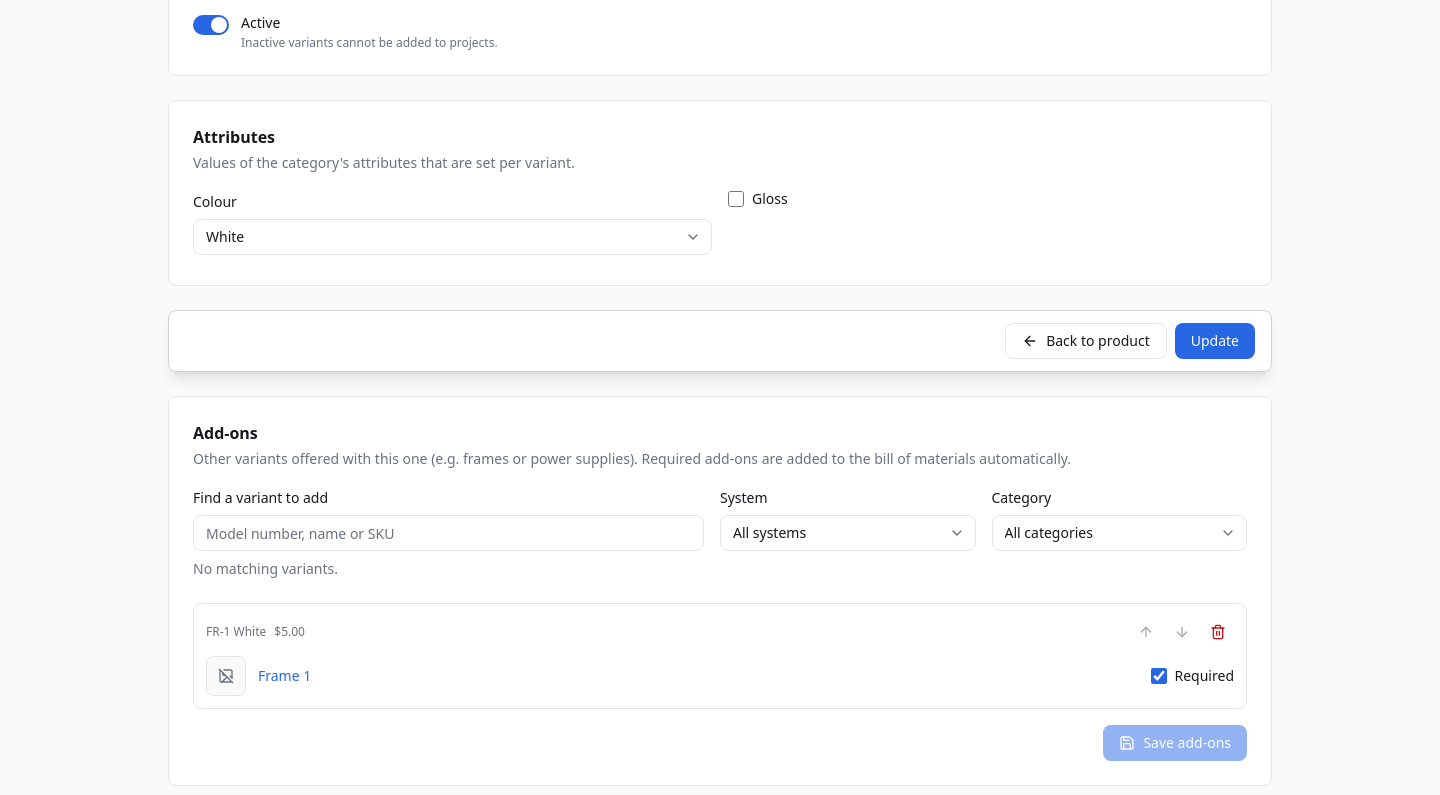
Test case: VariantEditorPage › keeps unsaved add-ons after an update of the variant and still asks before leaving
This screenshot has width=1440, height=795.
(page scrolled)
Click the button named "Remove FR-1 White" at (1218, 632), box [1202, 616, 1234, 648]
(page scrolled)
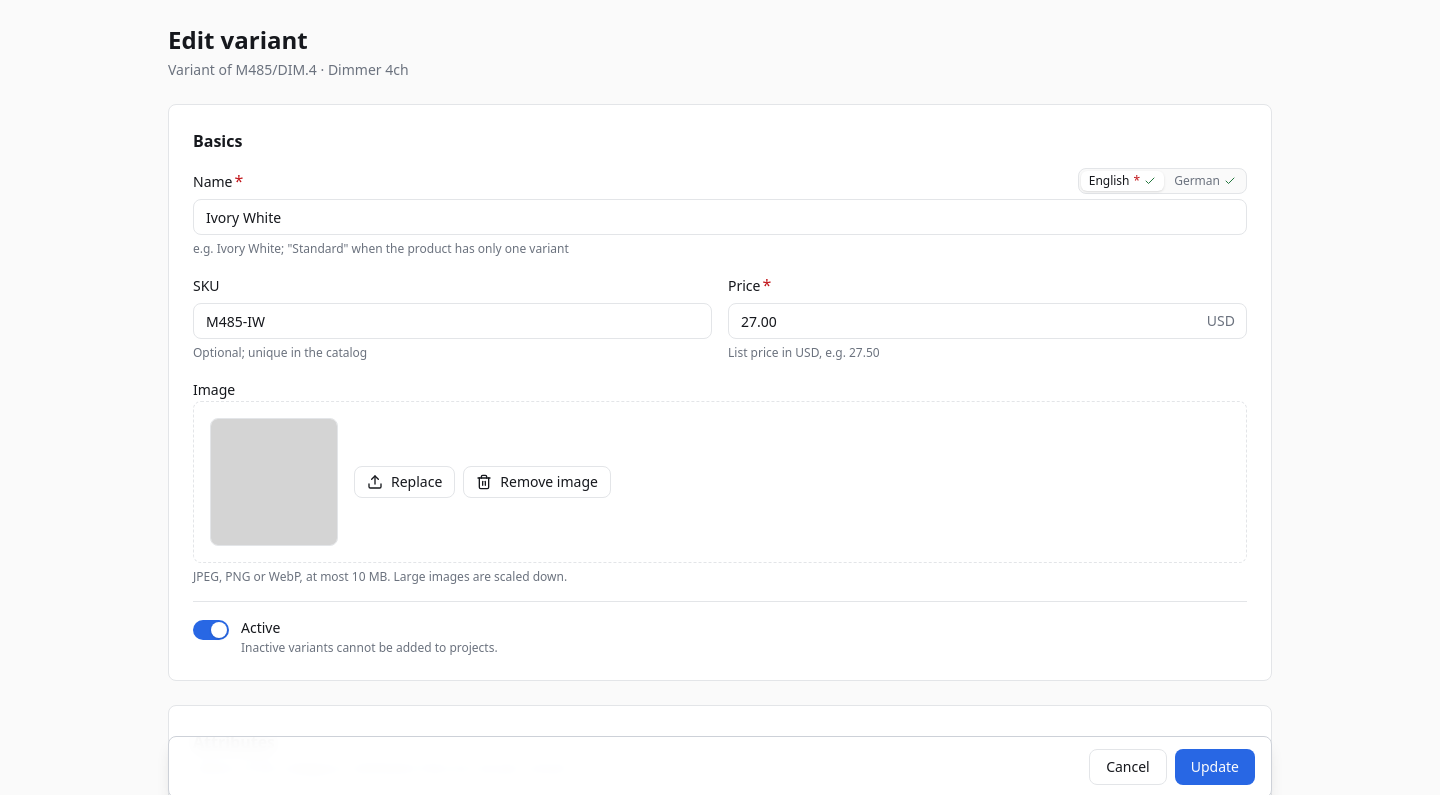
Replace the text in the field labelled "SKU" with "NEW" at (452, 321), box [193, 303, 712, 339]
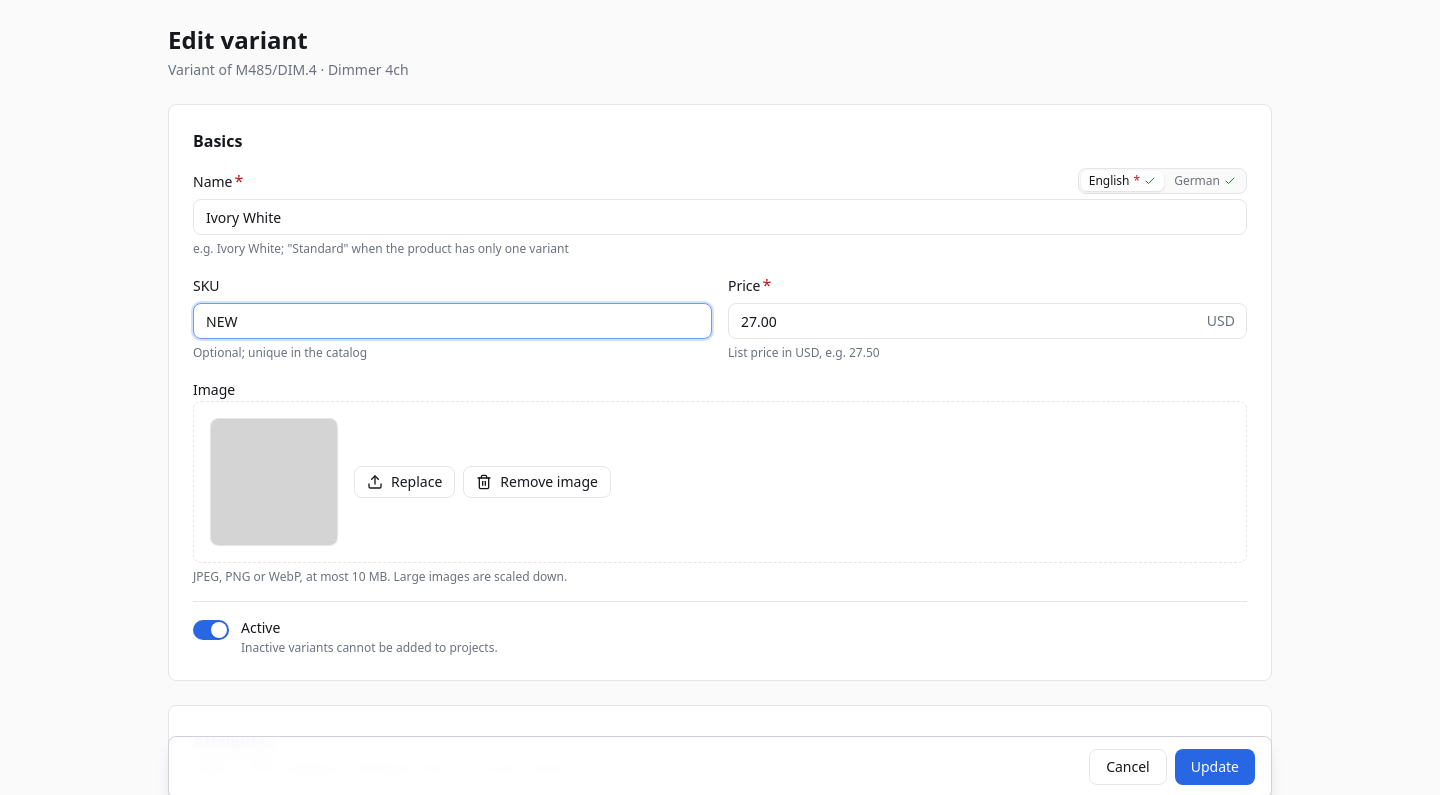
Click the button "Update" at (1215, 767), box [1175, 749, 1255, 785]
(page scrolled)
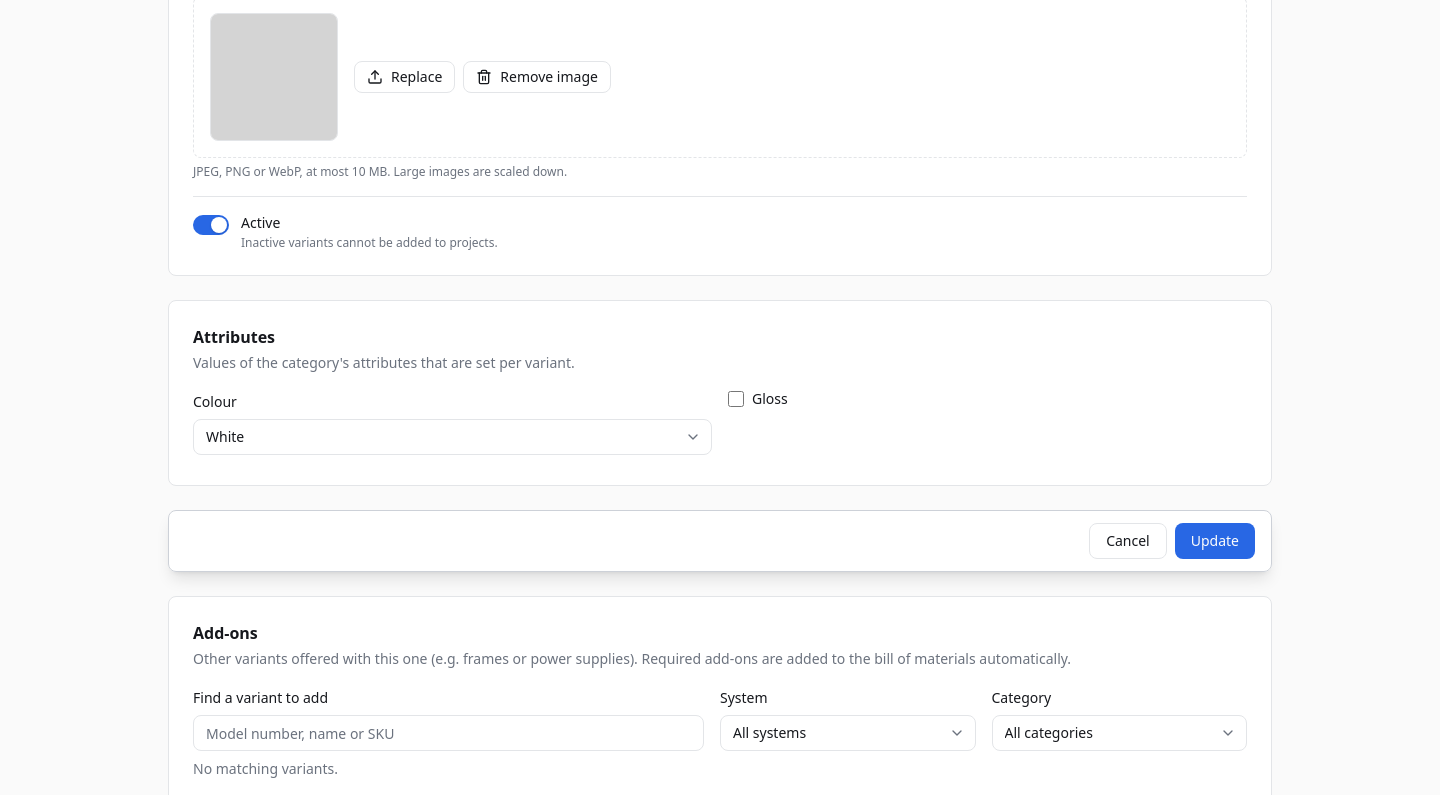
Expected: the text "FR-1 White" is not shown
Click the link "Cancel" at (1128, 541), box [1089, 523, 1167, 559]
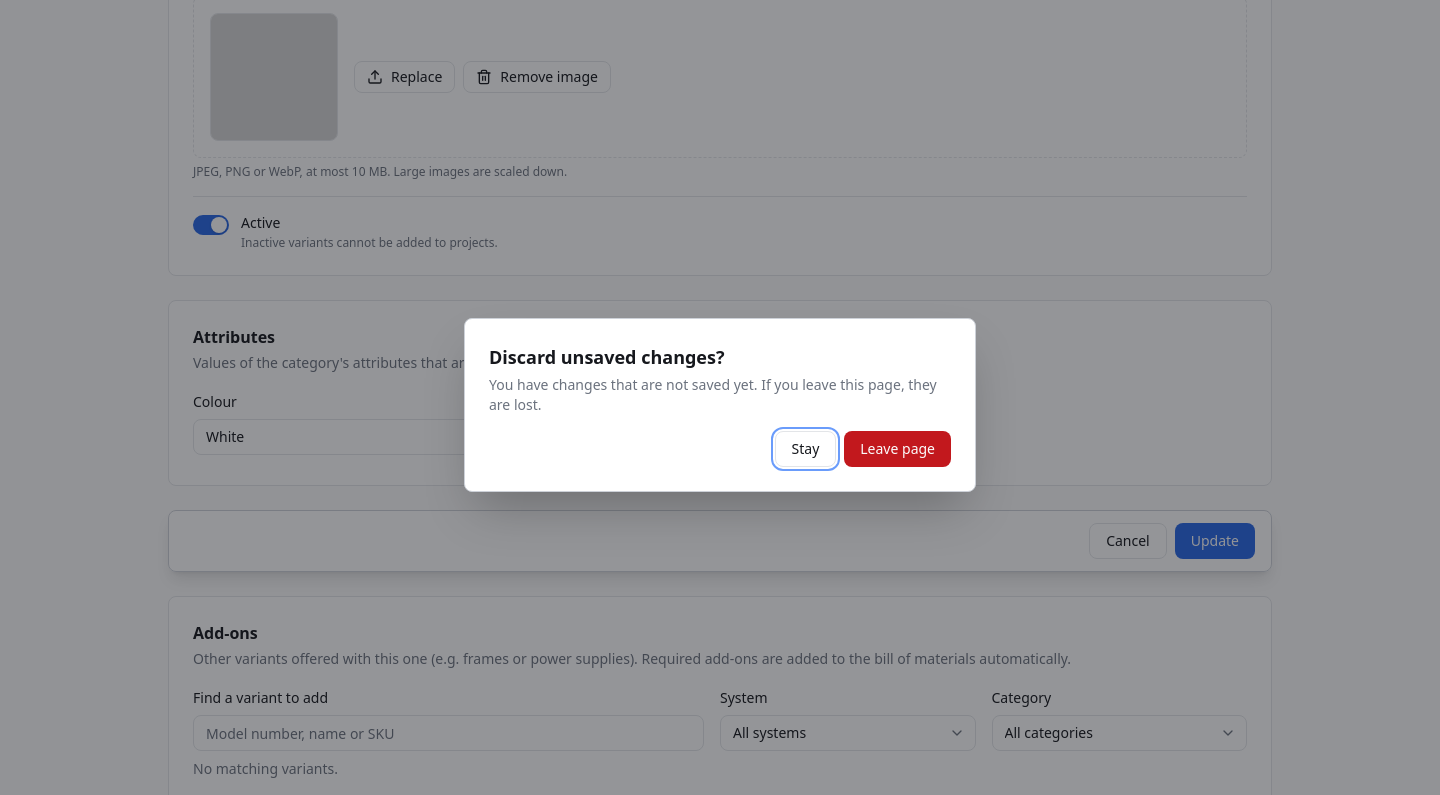
Click the button "Stay" at (805, 449), box [774, 431, 836, 467]
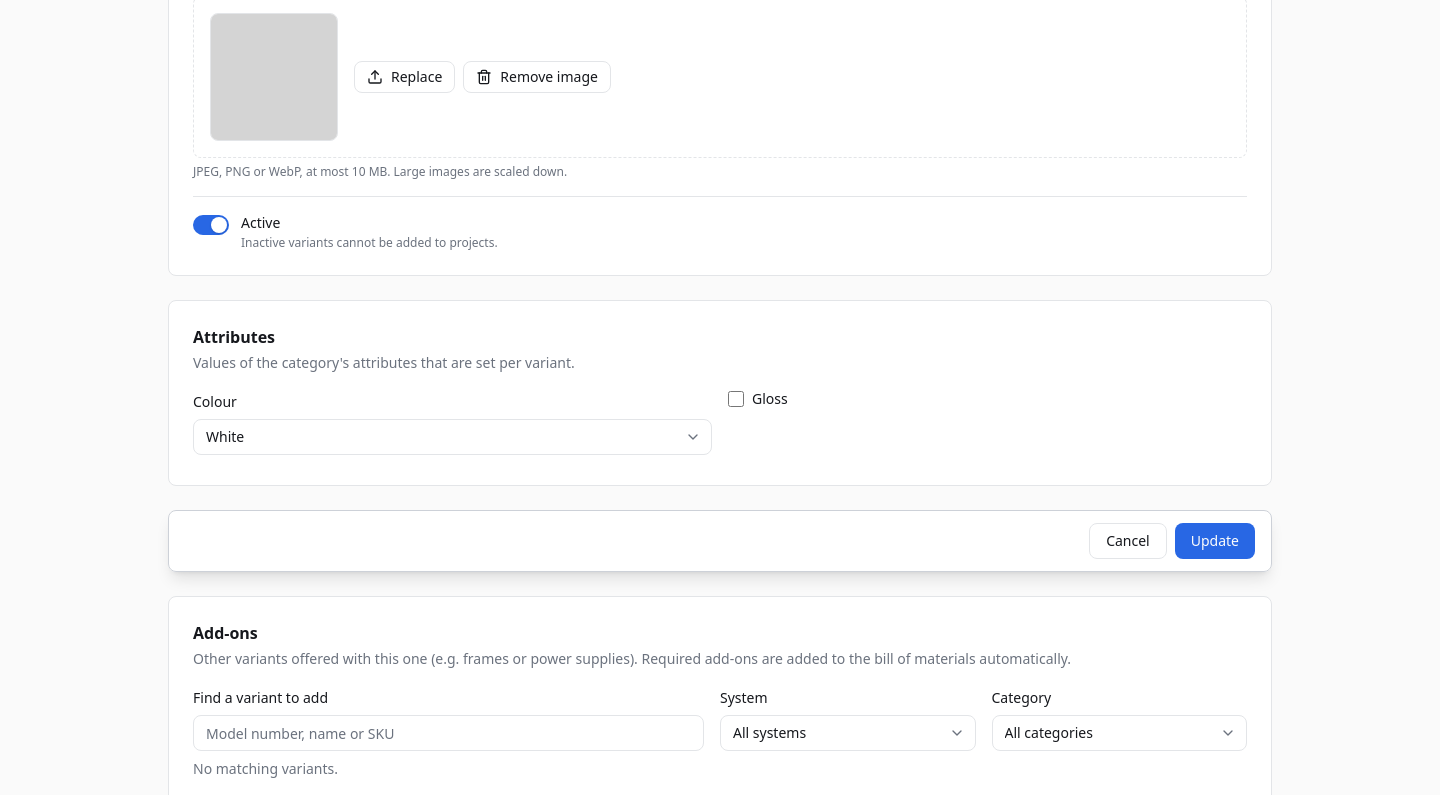
Expected: the dialog is gone
